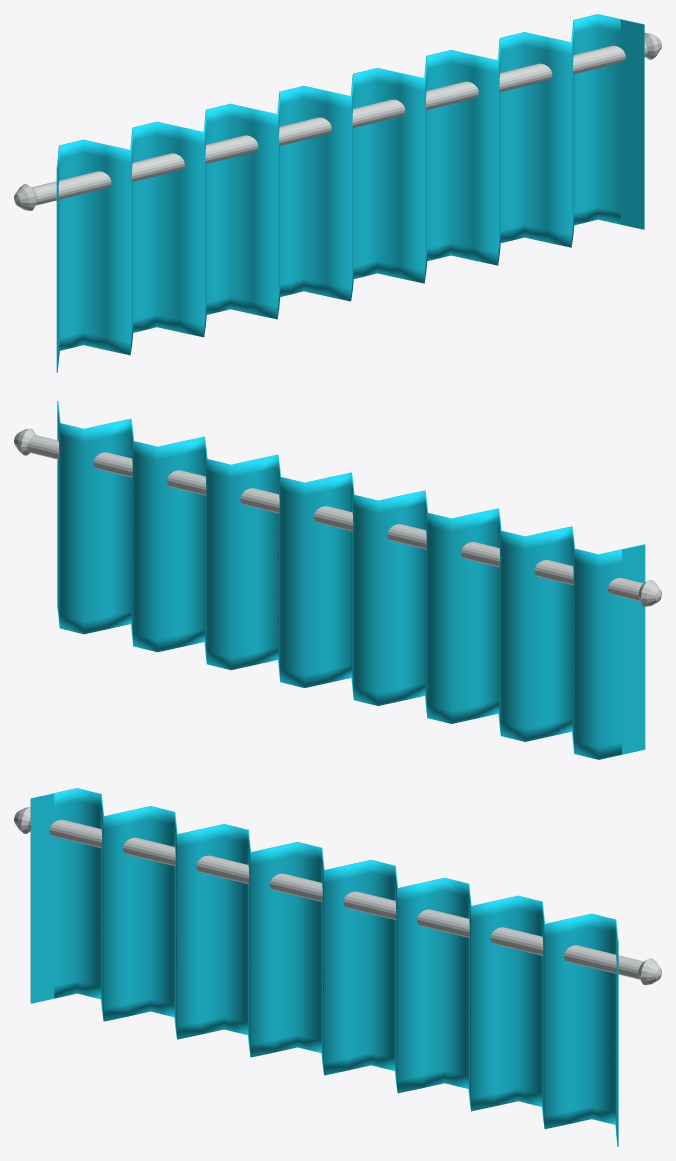
Rendered from curtain.fbx.
The picture shows the model from 3 angles, top to bottom: view 1: azimuth 30°, elevation 25°; view 2: azimuth 150°, elevation 25°; view 3: azimuth 330°, elevation 25°; orthographic projection.
Parts seen in each view (by area): view 1: Cylinder.002; view 2: Cylinder.002; view 3: Cylinder.002.
Part boxes in pixels (x1,y1,x2,y2): Cylinder.002: (14,14,661,372); Cylinder.002: (14,401,661,759); Cylinder.002: (14,788,661,1146).
Bounding box in the file's own units: 220 × 66.67 × 13.37.
